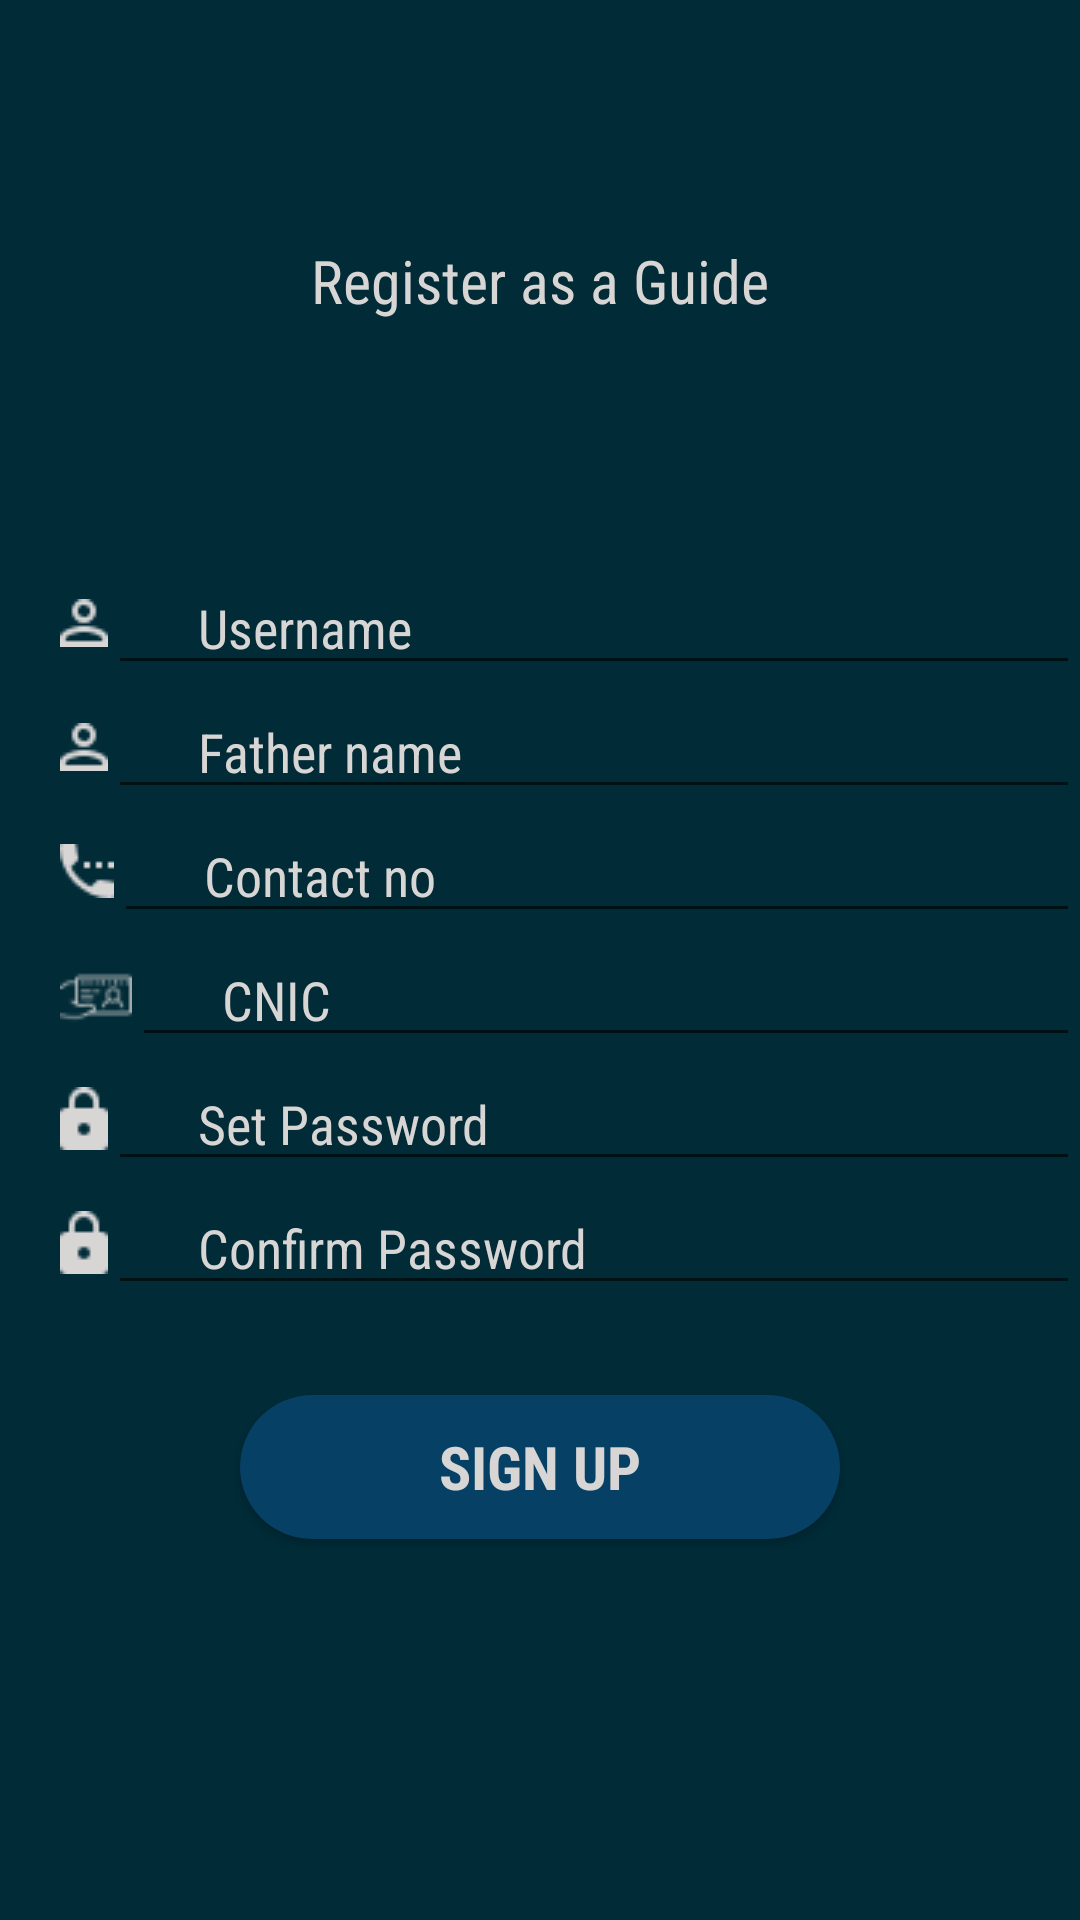

Point at icon controls on the screen. Image size 1080x1920, points as (x=x, y=y).
call: (x=87, y=871)
identity: (x=96, y=996)
lock: (x=84, y=1118), (x=84, y=1242)
